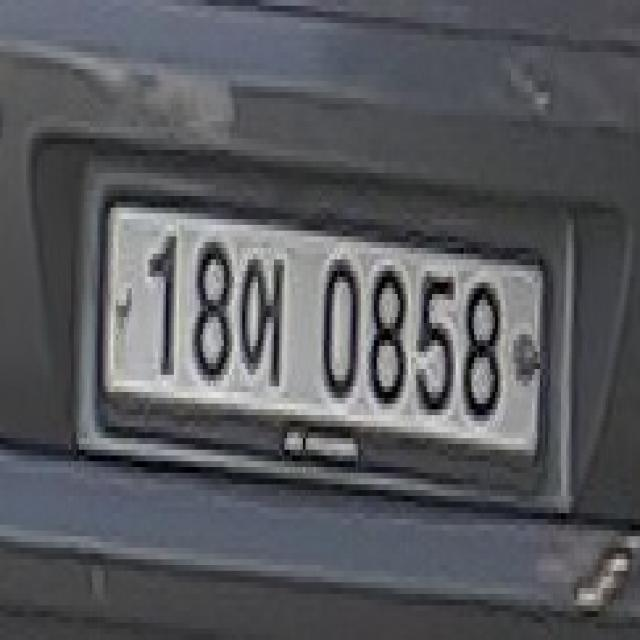0: (322, 248, 364, 415)
1: (134, 213, 184, 392)
5: (414, 266, 456, 432)
8: (461, 277, 506, 432), (192, 225, 232, 392), (369, 260, 408, 415)
eo: (237, 248, 284, 404)
license_plate: (76, 156, 564, 519)
